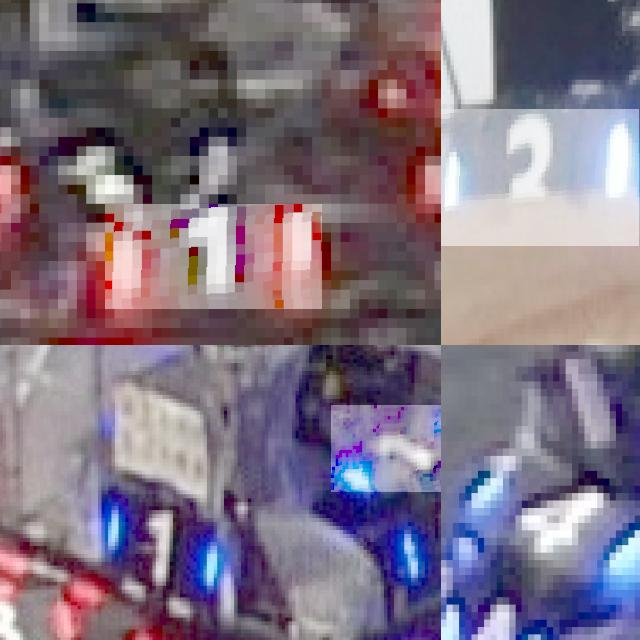B1: (90, 506, 222, 594), (331, 404, 441, 492), (382, 486, 441, 573)
B3: (441, 109, 639, 246)
B4: (471, 448, 640, 582), (441, 590, 547, 640)
R1: (105, 204, 322, 309)
